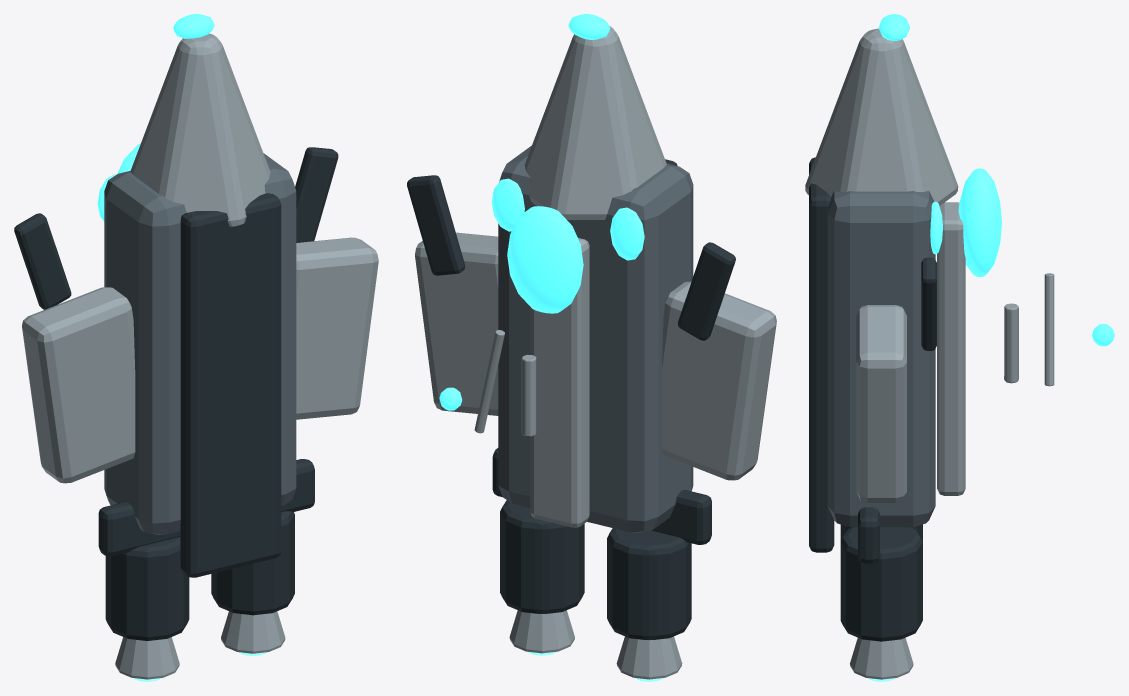
The model's file is horizon.glb.
3 renders of one model, left to right at view 1: azimuth 30°, elevation 25°; view 2: azimuth 150°, elevation 25°; view 3: azimuth 270°, elevation 25°, orthographic. The views are drawn at different scales.
Parts seen in each view (by area): view 1: horizon_keel, horizon_body, horizon_service_pod, horizon_prow, horizon_service_pod.001, horizon_engine_housing, horizon_engine_housing.001, horizon_docking_spine, horizon_lateral_sensor, horizon_lateral_sensor.001, horizon_engine_nozzle.001, horizon_engine_nozzle (+1 smaller); view 2: horizon_body, horizon_prow, horizon_service_pod, horizon_dorsal_spine, horizon_service_pod.001, horizon_engine_housing, horizon_engine_housing.001, horizon_sensor_dome, horizon_lateral_sensor.001, horizon_lateral_sensor, horizon_docking_spine, horizon_engine_nozzle.001 (+6 smaller); view 3: horizon_body, horizon_prow, horizon_service_pod.001, horizon_engine_housing.001, horizon_dorsal_spine, horizon_keel, horizon_sensor_dome, horizon_engine_nozzle.001, horizon_lateral_sensor.001, horizon_antenna, horizon_docking_spine, horizon_sensor_mast (+2 smaller).
Part boxes in pixels (<box>): horizon_keel: <box>180,193,281,577</box>; horizon_body: <box>104,153,296,534</box>; horizon_service_pod: <box>22,287,135,483</box>; horizon_prow: <box>130,33,270,226</box>; horizon_service_pod.001: <box>296,237,378,419</box>; horizon_engine_housing: <box>105,537,189,640</box>; horizon_engine_housing.001: <box>211,511,294,615</box>; horizon_docking_spine: <box>98,459,314,556</box>; horizon_lateral_sensor: <box>14,213,71,309</box>; horizon_lateral_sensor.001: <box>295,147,338,242</box>; horizon_engine_nozzle.001: <box>221,611,285,653</box>; horizon_engine_nozzle: <box>115,637,179,679</box>; horizon_body: <box>498,145,693,532</box>; horizon_prow: <box>524,26,666,219</box>; horizon_service_pod: <box>662,281,776,480</box>; horizon_dorsal_spine: <box>530,238,589,527</box>; horizon_service_pod.001: <box>415,232,498,415</box>; horizon_engine_housing: <box>607,528,691,640</box>; horizon_engine_housing.001: <box>500,500,584,613</box>; horizon_sensor_dome: <box>507,206,583,313</box>; horizon_lateral_sensor.001: <box>407,175,464,275</box>; horizon_lateral_sensor: <box>677,242,735,340</box>; horizon_docking_spine: <box>492,448,711,544</box>; horizon_engine_nozzle.001: <box>509,610,574,653</box>; horizon_body: <box>828,190,935,527</box>; horizon_prow: <box>805,28,958,205</box>; horizon_service_pod.001: <box>856,305,906,502</box>; horizon_engine_housing.001: <box>840,527,922,641</box>; horizon_dorsal_spine: <box>937,202,965,495</box>; horizon_keel: <box>809,157,834,552</box>; horizon_sensor_dome: <box>958,168,1001,277</box>; horizon_engine_nozzle.001: <box>850,637,913,679</box>; horizon_lateral_sensor.001: <box>921,257,936,350</box>; horizon_antenna: <box>1044,273,1054,386</box>; horizon_docking_spine: <box>858,507,879,563</box>; horizon_sensor_mast: <box>1004,303,1018,383</box>.
Size of the model in its own units: 0.6123 by 1.1 by 0.4887.
